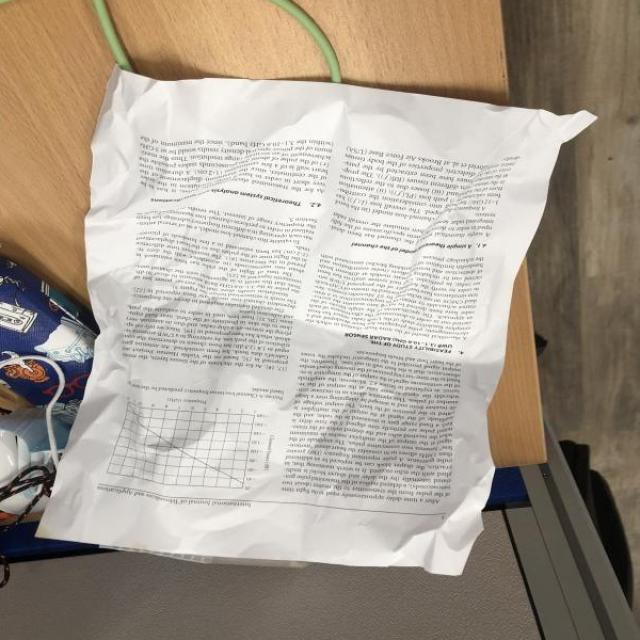kertas: (37, 46, 595, 605)
